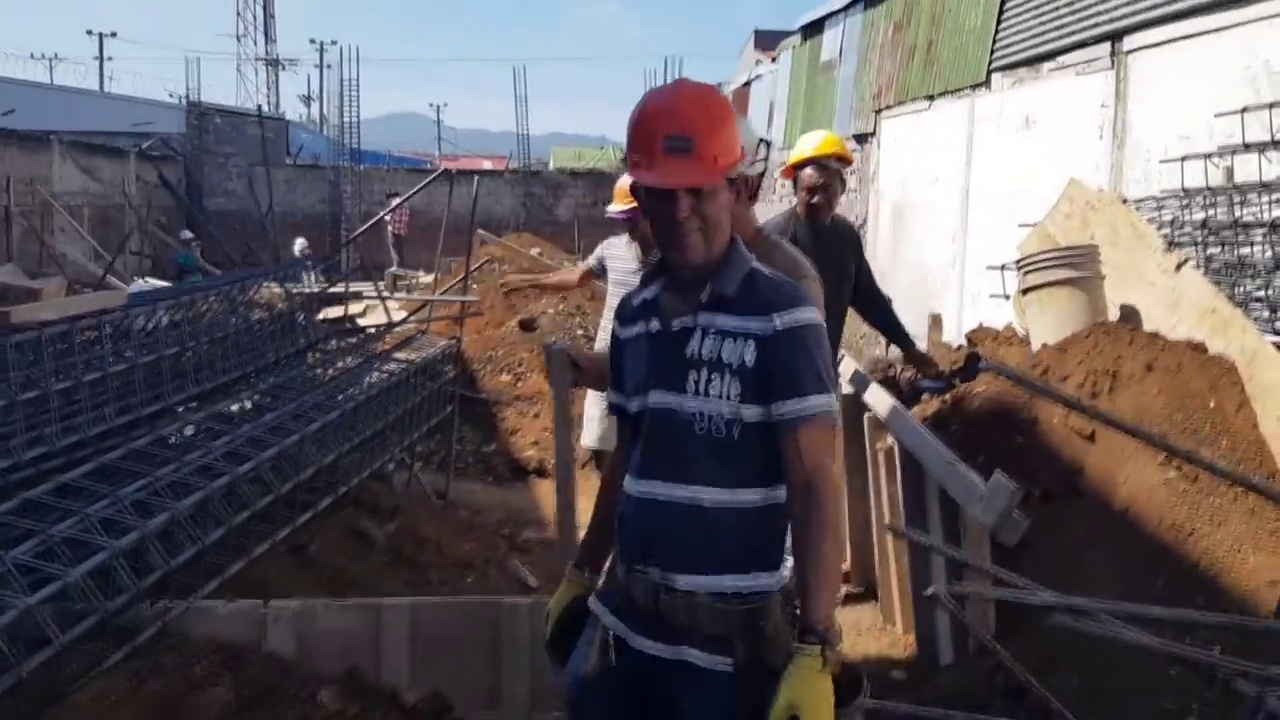helmet: (621, 74, 754, 190), (778, 125, 855, 183), (607, 174, 639, 213), (294, 237, 309, 252), (179, 230, 196, 240)
helmet-off: (382, 187, 401, 204)
helmet-on: (623, 71, 756, 299), (778, 127, 858, 223), (603, 174, 640, 237), (292, 237, 309, 260), (178, 229, 196, 246)
person: (550, 64, 882, 710), (771, 118, 939, 612), (500, 174, 648, 493), (378, 186, 412, 272), (176, 229, 205, 282), (292, 236, 316, 287)
